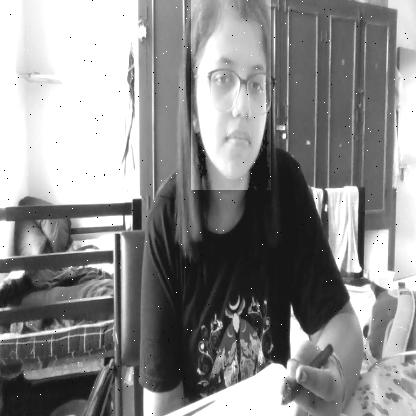Normal: (190, 0, 270, 190)
